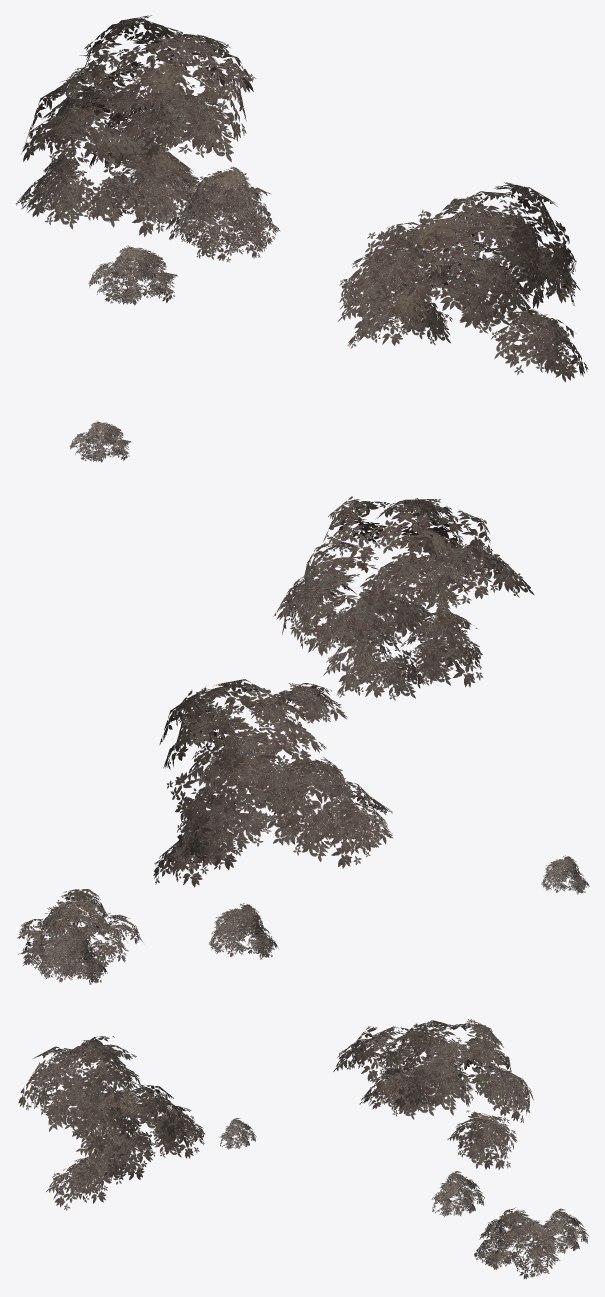
File: Area08_4.FBX
3 renders of one model, top to bottom at view 1: azimuth 30°, elevation 25°; view 2: azimuth 150°, elevation 25°; view 3: azimuth 270°, elevation 25°, orthographic. The views are drawn at different scales.
Parts seen in each view (by area): view 1: Area08_4; view 2: Area08_4; view 3: Area08_4.
Part boxes in pixels (box(x1,y1,x2,y2)): Area08_4: box(16, 15, 588, 462); Area08_4: box(17, 496, 589, 984); Area08_4: box(18, 1019, 588, 1279).
Bounding box in the file's own units: 2245 × 1472 × 3794.
